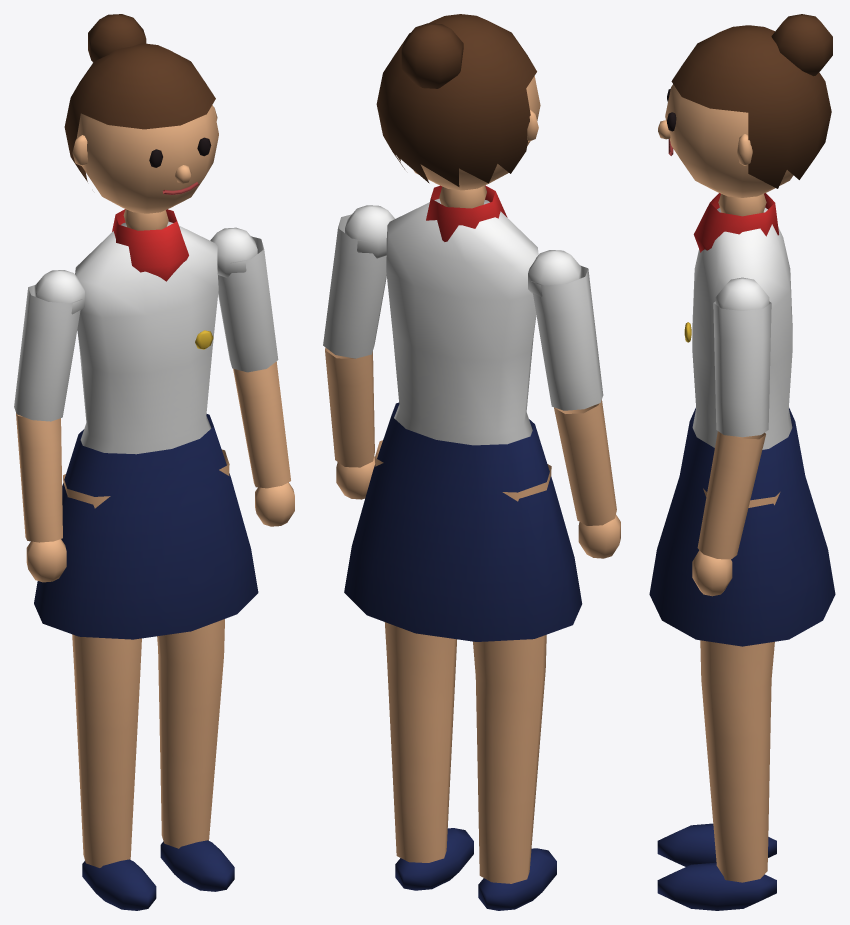
The model's file is Staff_Receptionist.obj.
3 views of the same model, side by side, from view 1: azimuth 30°, elevation 25°; view 2: azimuth 150°, elevation 25°; view 3: azimuth 270°, elevation 25° (orthographic). The views are drawn at different scales.
Parts seen in each view (by area): view 1: Torso, Head, LegR, LegL, ArmR, ArmL; view 2: Torso, Head, LegR, LegL, ArmR, ArmL; view 3: Torso, Head, LegL, ArmL, LegR.
Boxes of the visible parts, x1,y1,x2,y2 form: Torso: (34, 209, 258, 639); Head: (64, 14, 218, 213); LegR: (63, 474, 156, 910); LegL: (157, 449, 234, 891); ArmR: (14, 270, 84, 582); ArmL: (210, 227, 294, 526); Torso: (344, 185, 582, 641); Head: (376, 14, 540, 190); LegR: (473, 464, 556, 910); LegL: (375, 440, 473, 890); ArmR: (528, 250, 620, 558); ArmL: (323, 205, 394, 499); Torso: (649, 193, 835, 646); Head: (658, 14, 832, 197); LegL: (657, 488, 780, 910); ArmL: (692, 277, 771, 596); LegR: (657, 823, 776, 866).
Size of the model in its own units: 0.5922 by 1.8 by 0.3492.
Materials: 1 (1 with a texture image).
